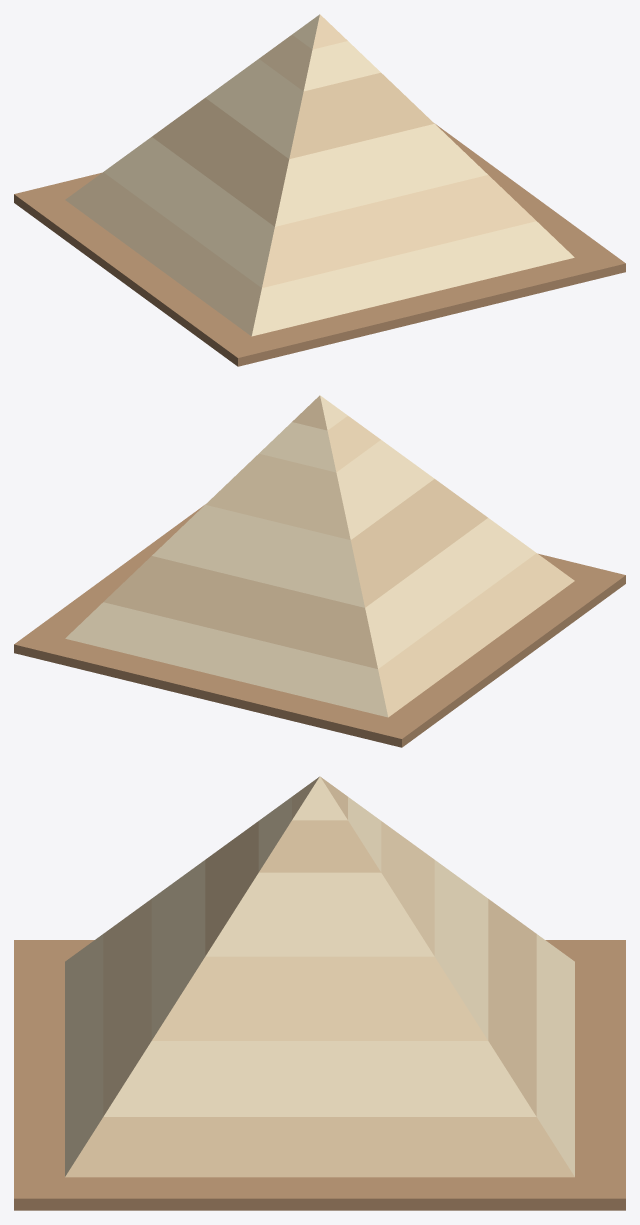
The model's file is giza.glb.
The picture shows the model from 3 angles, top to bottom: view 1: azimuth 30°, elevation 25°; view 2: azimuth 150°, elevation 25°; view 3: azimuth 270°, elevation 25°; orthographic projection. The views are drawn at different scales.
Visible parts, largest first — view 1: Great Pyramid of Giza; view 2: Great Pyramid of Giza; view 3: Great Pyramid of Giza.
Part boxes in pixels (x1=…): Great Pyramid of Giza: x1=14, y1=14, x2=625, y2=366; Great Pyramid of Giza: x1=14, y1=395, x2=625, y2=747; Great Pyramid of Giza: x1=14, y1=776, x2=625, y2=1210.
Size of the model in its own units: 5.6 by 3.08 by 5.6.
